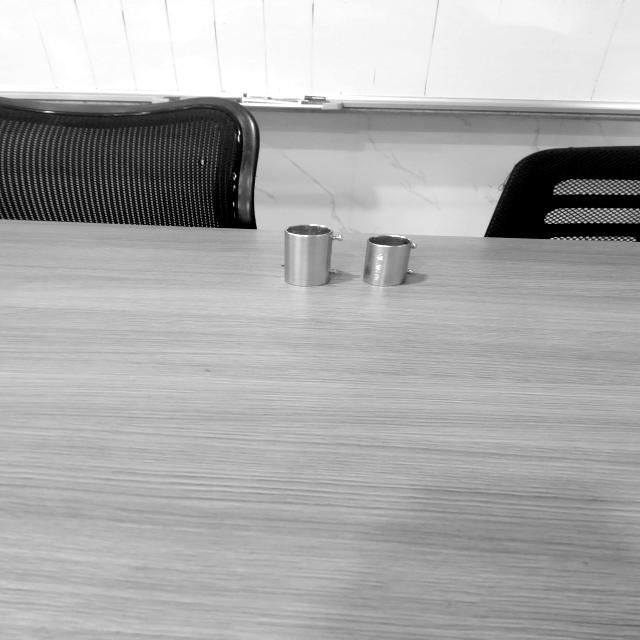Co_Lon: (286, 224, 343, 286)
Co_Nho: (362, 231, 420, 291)
